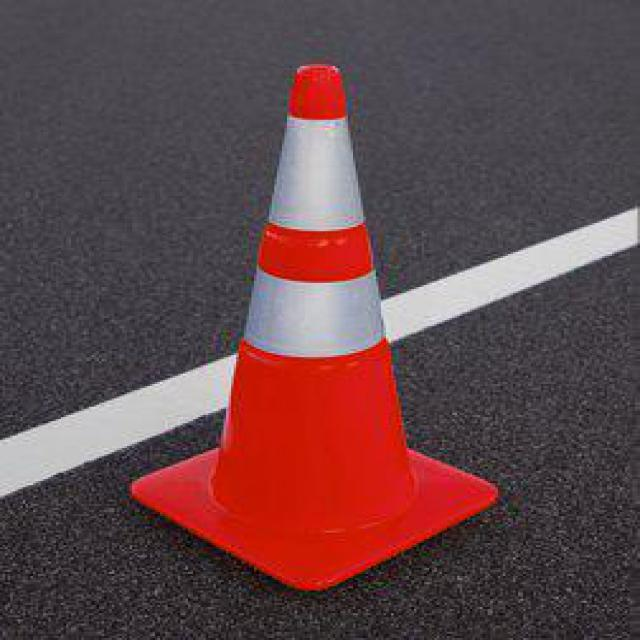Cone: (116, 60, 508, 588)
